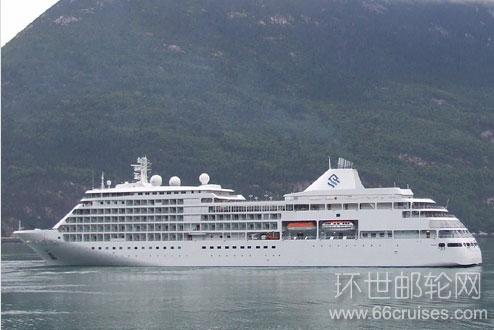youlun: (14, 152, 486, 274)
